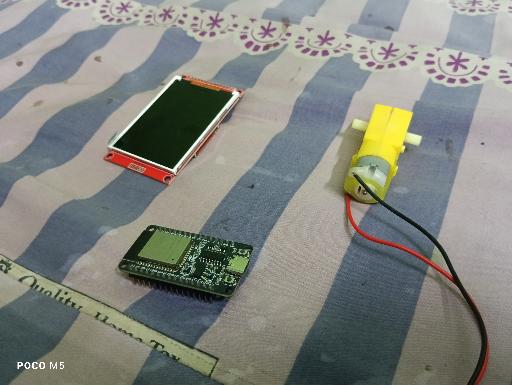Display: (103, 74, 245, 186)
Esp32: (118, 224, 253, 305)
Motor: (344, 103, 422, 205)
